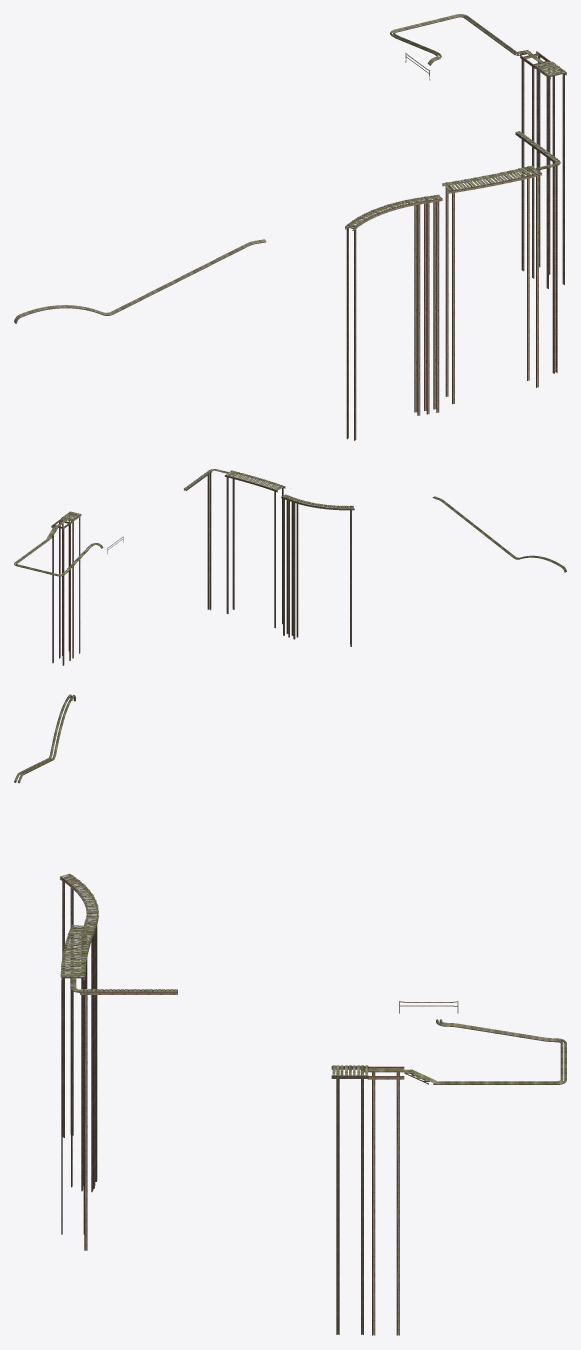
3 views of the same model, one above another, from view 1: azimuth 30°, elevation 25°; view 2: azimuth 150°, elevation 25°; view 3: azimuth 270°, elevation 25° (orthographic). The views are drawn at different scales.
Parts seen in each view (by area): view 1: Ramp.016, Ramp.015, Ramp.003, Ramp.001, Ramp.013, pipe, pipe.001; view 2: Ramp.016, Ramp.015, Ramp.003, Ramp.001, Ramp.013, pipe, pipe.001; view 3: Ramp.016, Ramp.015, Ramp.003, Ramp.001, Ramp.013, pipe.001.
Boxes of the visible parts, x1,y1,x2,y2 form: Ramp.016: [345, 194, 442, 440]; Ramp.015: [442, 165, 541, 404]; Ramp.003: [520, 51, 551, 278]; Ramp.001: [535, 61, 566, 288]; Ramp.013: [515, 131, 559, 373]; pipe: [14, 239, 266, 323]; pipe.001: [390, 14, 518, 65]; Ramp.016: [281, 494, 354, 646]; Ramp.015: [224, 470, 285, 628]; Ramp.003: [51, 519, 71, 665]; Ramp.001: [61, 511, 81, 658]; Ramp.013: [184, 470, 212, 610]; pipe: [432, 496, 566, 572]; pipe.001: [14, 539, 103, 576]; Ramp.016: [59, 873, 98, 1192]; Ramp.015: [60, 925, 95, 1234]; Ramp.003: [367, 1066, 404, 1335]; Ramp.001: [331, 1065, 368, 1334]; Ramp.013: [80, 989, 177, 1250]; pipe.001: [433, 1019, 566, 1084].
Size of the model in its own units: 7521 by 2692 by 4504.
